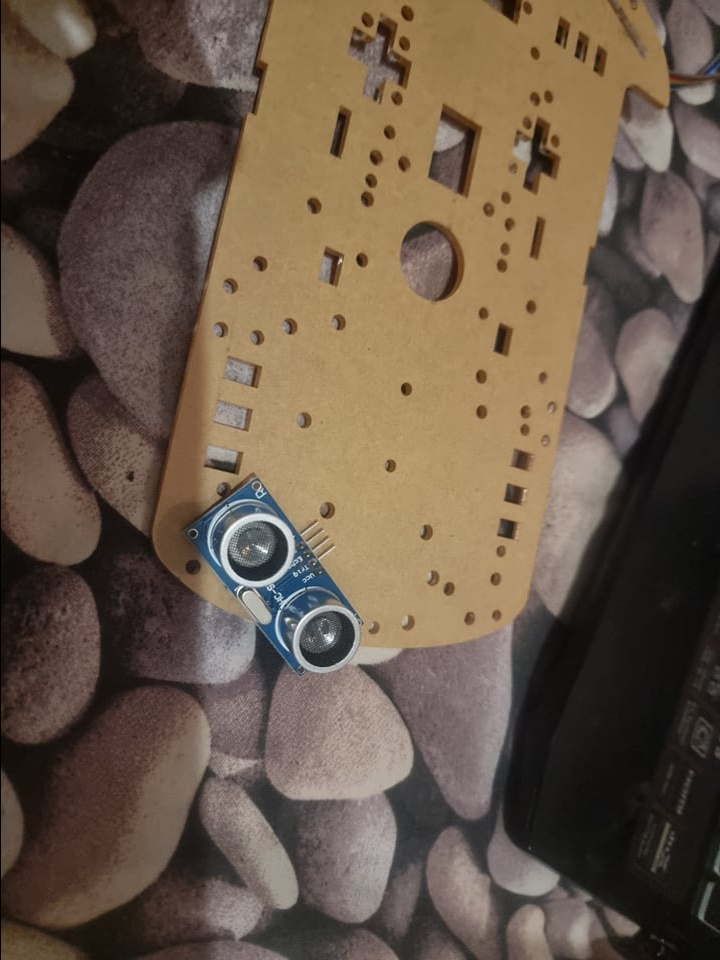SENSOR: (178, 469, 362, 676)
